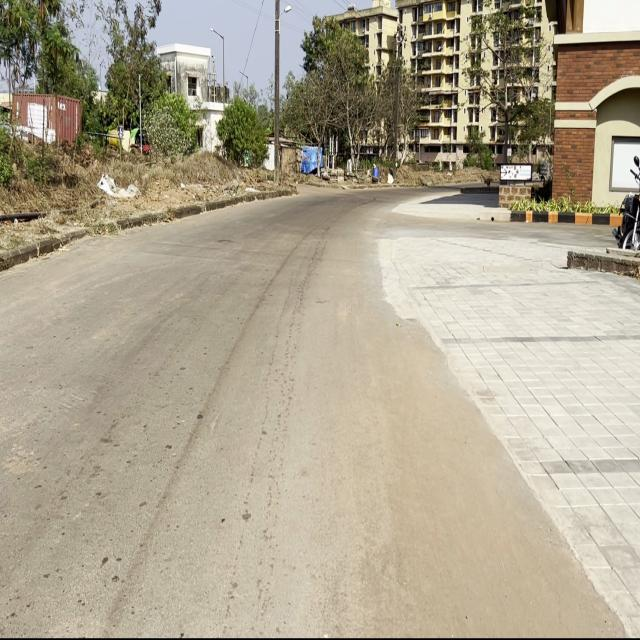Road: (1, 192, 629, 638)
